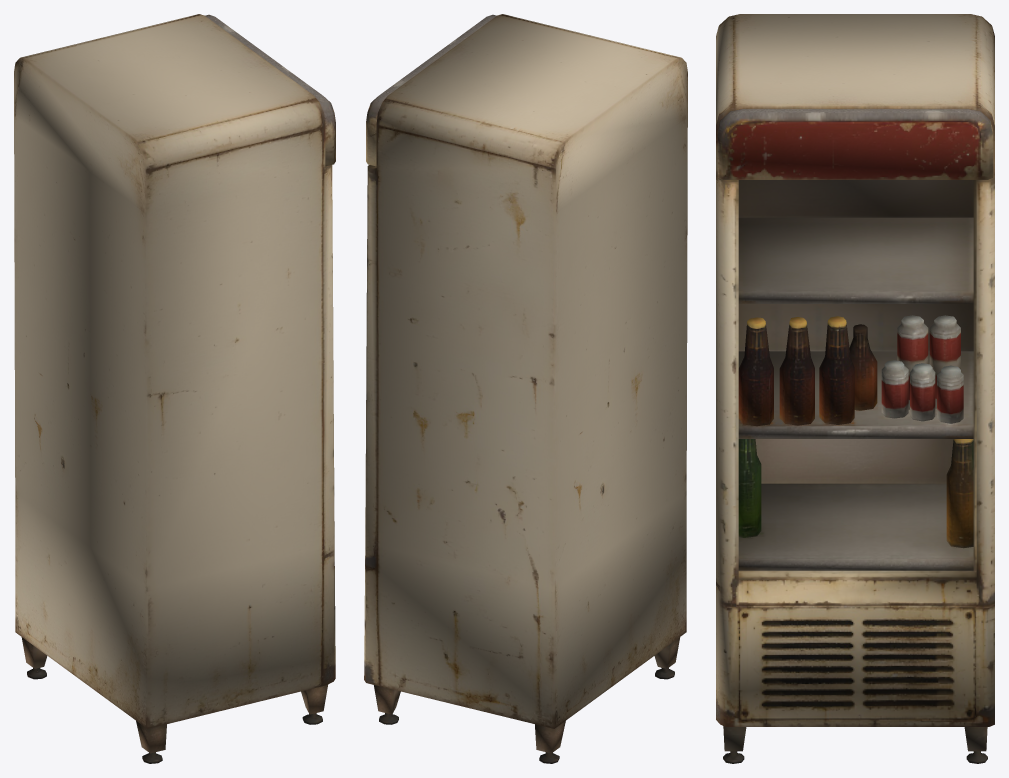
The model's file is drinks-cooler.glb.
The picture shows the model from 3 angles, left to right: view 1: azimuth 30°, elevation 25°; view 2: azimuth 150°, elevation 25°; view 3: azimuth 270°, elevation 25°; orthographic projection. The views are drawn at different scales.
Parts seen in each view (by area): view 1: tripo_node_49d640de-8c82-45f5-bf40-bcc316848c6f; view 2: tripo_node_49d640de-8c82-45f5-bf40-bcc316848c6f; view 3: tripo_node_49d640de-8c82-45f5-bf40-bcc316848c6f.
Boxes of the visible parts, x1,y1,x2,y2 form: tripo_node_49d640de-8c82-45f5-bf40-bcc316848c6f: [14, 14, 335, 763]; tripo_node_49d640de-8c82-45f5-bf40-bcc316848c6f: [364, 14, 687, 763]; tripo_node_49d640de-8c82-45f5-bf40-bcc316848c6f: [716, 14, 994, 763].
Size of the model in its own units: 0.3262 by 0.998 by 0.3848.
1 material, 1 textured.
